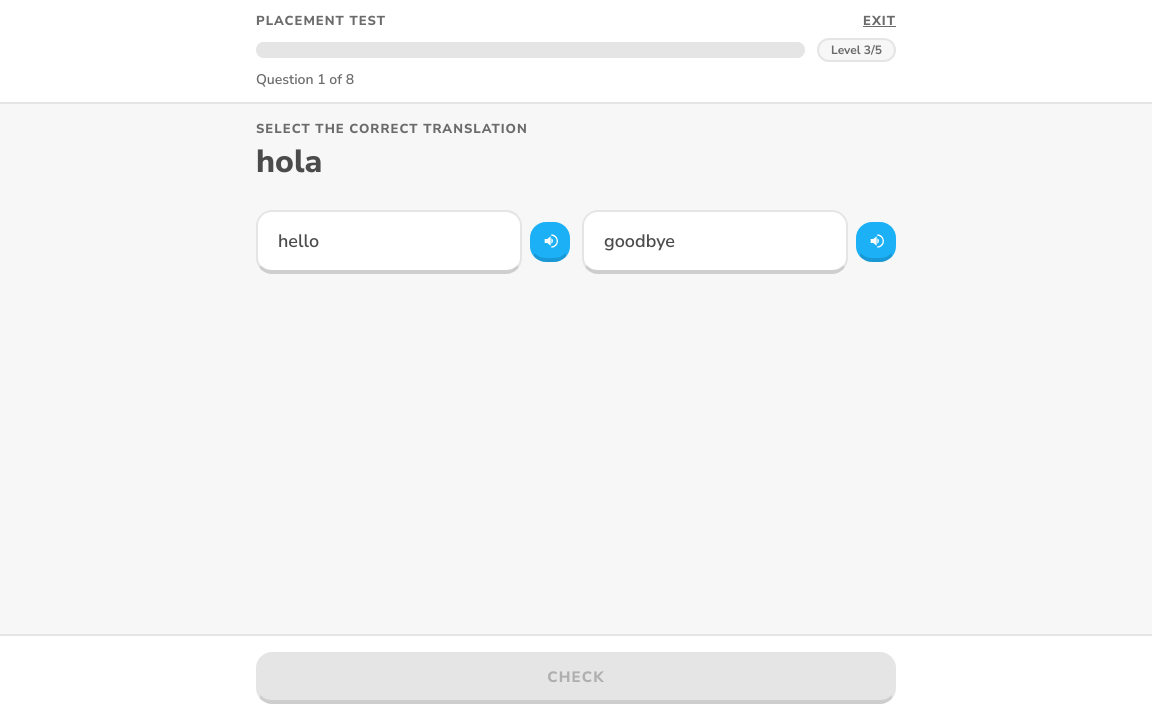
Test: PlacementRunner › a wrong answer shows the expected answer
What coordinates should you click on to do the following:
click the radio button labelled "goodbye"
I would click on:
 (640, 241)
Its box is [582, 210, 848, 274].
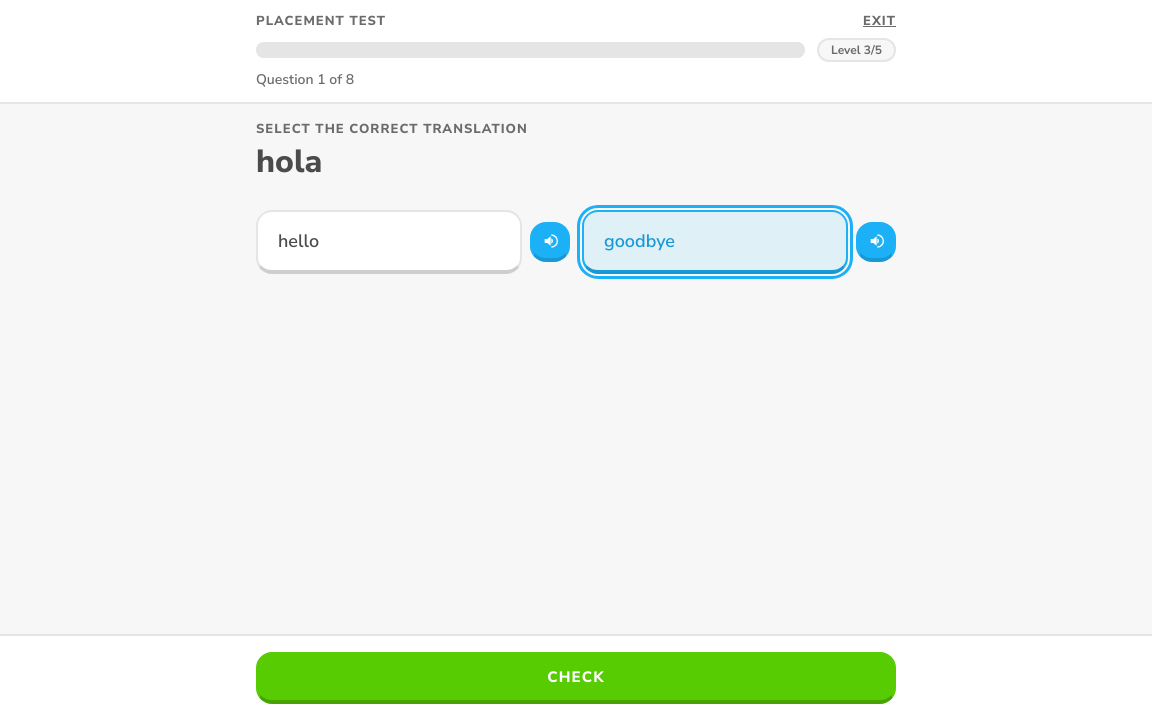
What coordinates should you click on to do the following:
click the button "Check"
I would click on:
 (576, 678)
Its box is [256, 652, 896, 704].
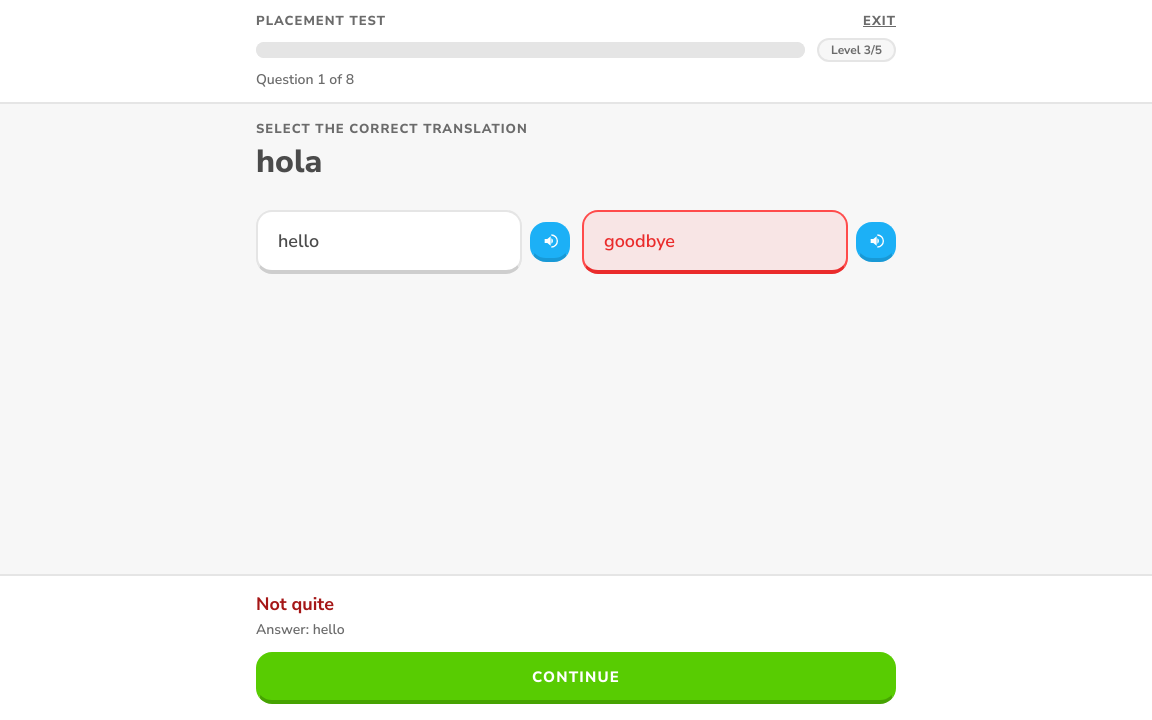
expect the text "Not quite" is shown: met, box [256, 592, 334, 616]
expect the text "Answer: hello" is shown: met, box [256, 620, 345, 638]
